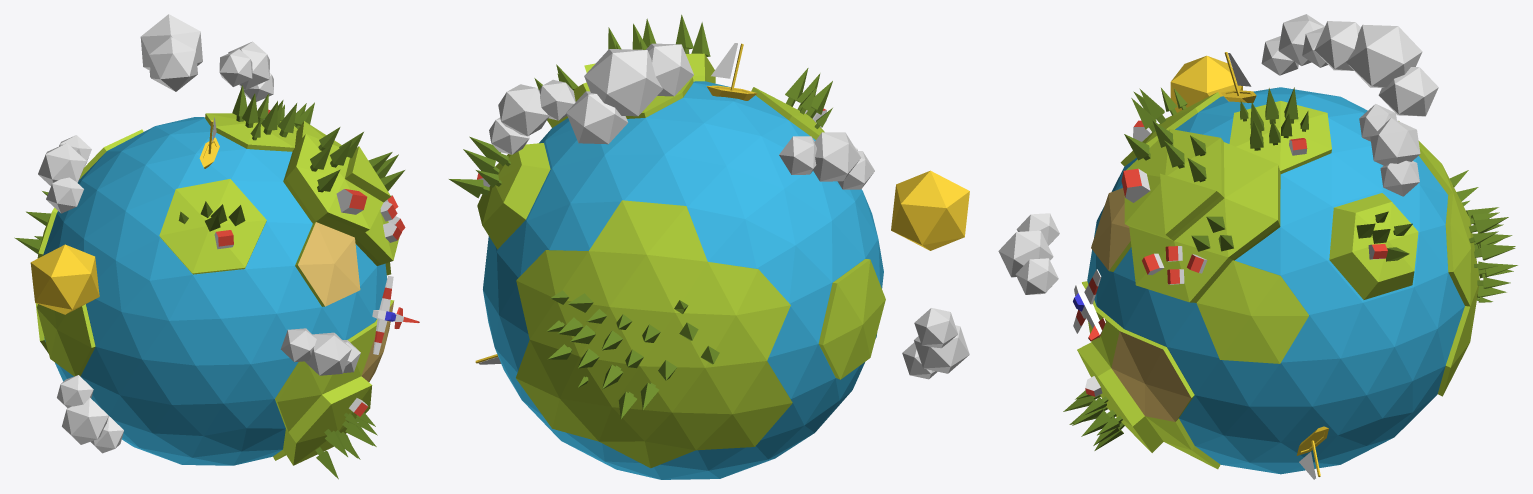
The model's file is Planet.glb.
3 views of the same model, side by side, from view 1: azimuth 30°, elevation 25°; view 2: azimuth 150°, elevation 25°; view 3: azimuth 270°, elevation 25° (orthographic). The views are drawn at different scales.
Parts seen in each view (by area): view 1: Icosphere.001, Icosphere, Icosphere.007, Icosphere.006, Icosphere.005, Icosphere.002, Icosphere.003, Icosphere.004, Plane.066, Plane.055, Plane.064; view 2: Icosphere, Icosphere.001, Icosphere.006, Icosphere.007, Icosphere.004, Icosphere.002, Icosphere.005, Plane.064; view 3: Icosphere.001, Icosphere, Icosphere.006, Icosphere.004, Icosphere.003, Icosphere.002, Icosphere.007, Plane.066, Plane.065, Plane.064, Plane.055.
Part boxes in pixels (box(x1,y1,x2,y2)): Icosphere.001: box(43, 117, 386, 465); Icosphere: box(35, 113, 399, 465); Icosphere.007: box(30, 244, 99, 314); Icosphere.006: box(140, 14, 202, 91); Icosphere.005: box(57, 375, 123, 453); Icosphere.002: box(38, 135, 91, 213); Icosphere.003: box(280, 328, 360, 375); Icosphere.004: box(219, 41, 273, 101); Plane.066: box(372, 275, 419, 354); Plane.055: box(336, 189, 367, 214); Plane.064: box(199, 117, 219, 168); Icosphere: box(477, 53, 885, 468); Icosphere.001: box(483, 81, 883, 479); Icosphere.006: box(566, 43, 693, 144); Icosphere.007: box(891, 170, 969, 250); Icosphere.004: box(489, 79, 575, 154); Icosphere.002: box(779, 132, 874, 189); Icosphere.005: box(902, 308, 969, 379); Plane.064: box(706, 43, 757, 100); Icosphere.001: box(1087, 87, 1464, 474); Icosphere: box(1077, 92, 1479, 469); Icosphere.006: box(1314, 21, 1438, 116); Icosphere.004: box(1359, 104, 1420, 196); Icosphere.003: box(998, 213, 1059, 294); Icosphere.002: box(1261, 14, 1327, 75); Icosphere.007: box(1170, 55, 1242, 112); Plane.066: box(1073, 269, 1105, 341); Plane.065: box(1296, 426, 1328, 479); Plane.064: box(1221, 52, 1256, 102); Plane.055: box(1121, 168, 1150, 202).
Size of the model in its own units: 2.5 by 2.51 by 2.73.
